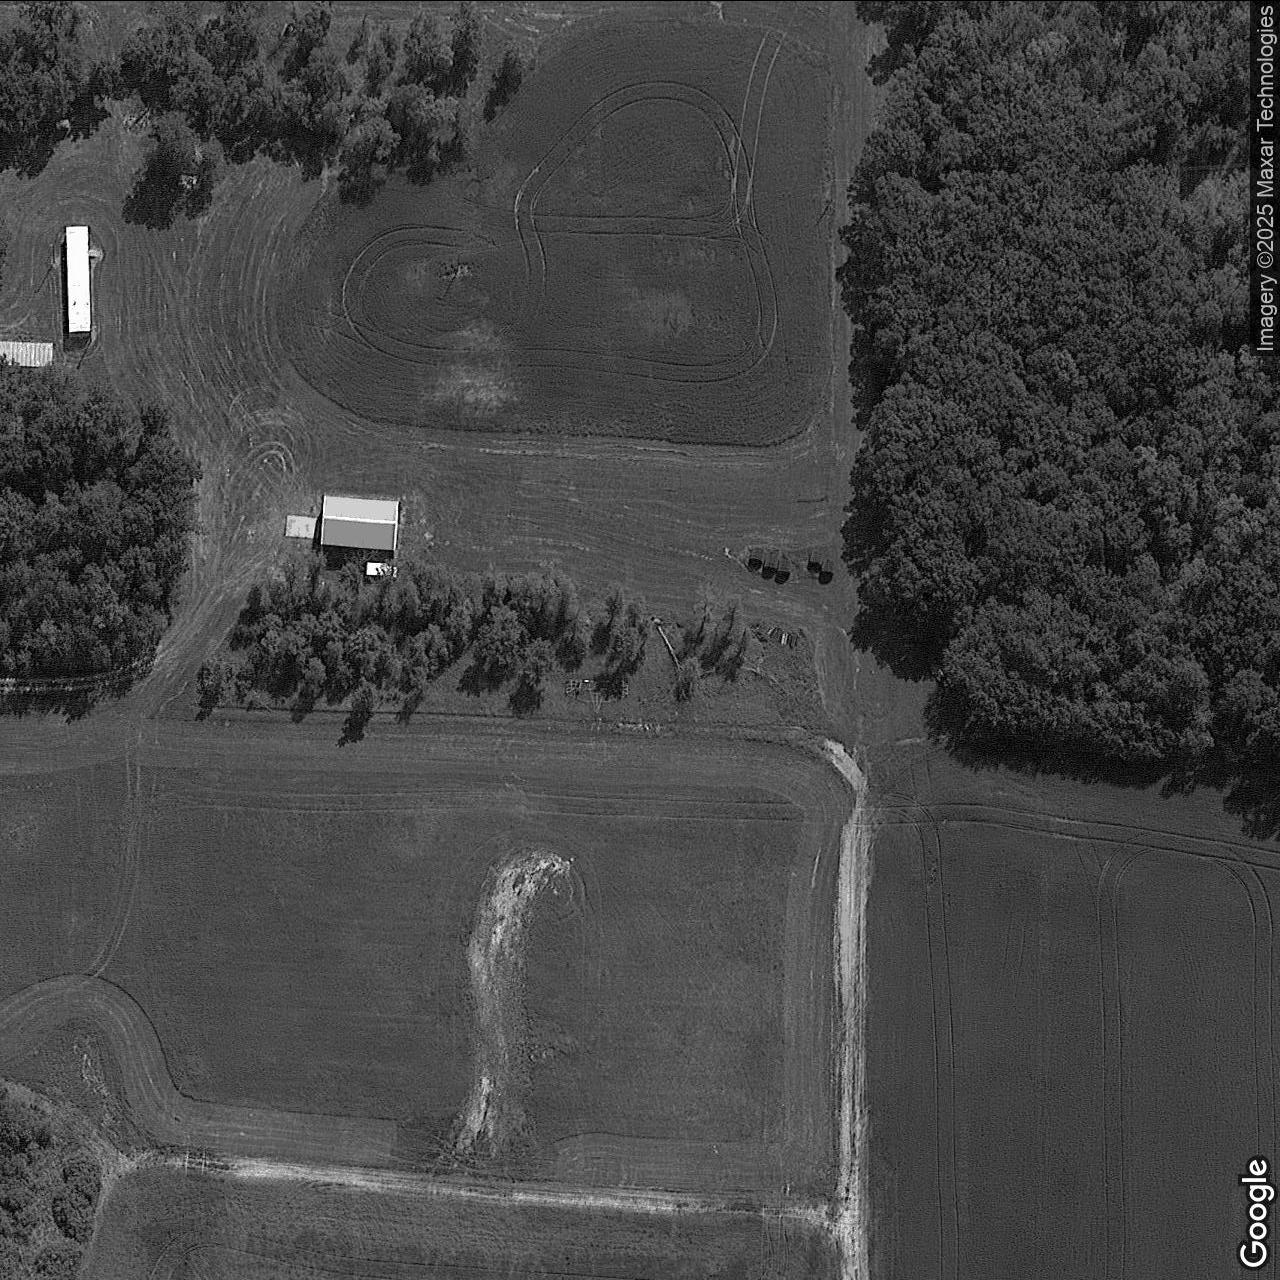House: (320, 496, 399, 550)
Trailer: (66, 225, 90, 336)
